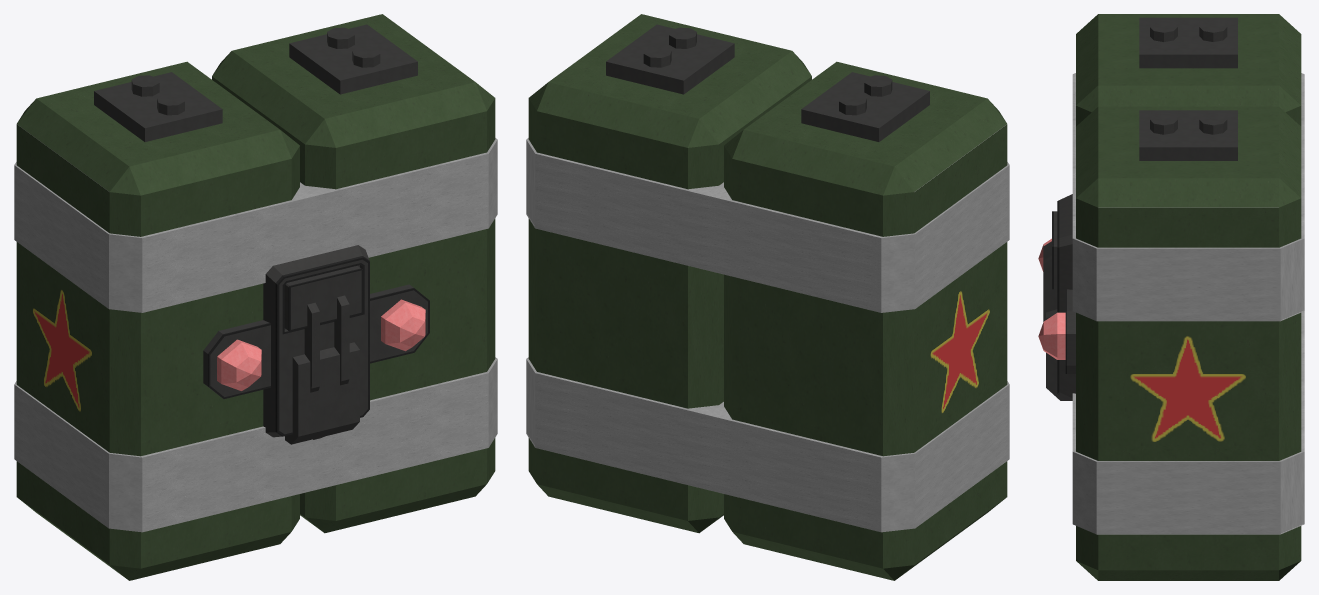
File: Explosive.fbx
3 views of the same model, side by side, from view 1: azimuth 30°, elevation 25°; view 2: azimuth 150°, elevation 25°; view 3: azimuth 270°, elevation 25° (orthographic). The views are drawn at different scales.
Parts seen in each view (by area): view 1: Explosive; view 2: Explosive; view 3: Explosive.
Boxes of the visible parts, box(x1,y1,x2,y2) form: Explosive: box(14, 14, 497, 580); Explosive: box(526, 14, 1009, 580); Explosive: box(1038, 14, 1304, 580).
Bounding box in the file's own units: 168 × 181 × 103.
